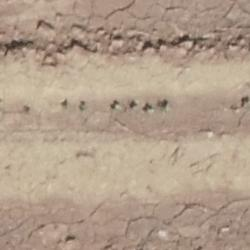cotton: (114, 104, 120, 109), (165, 104, 168, 110), (134, 103, 138, 107), (149, 107, 152, 111)
